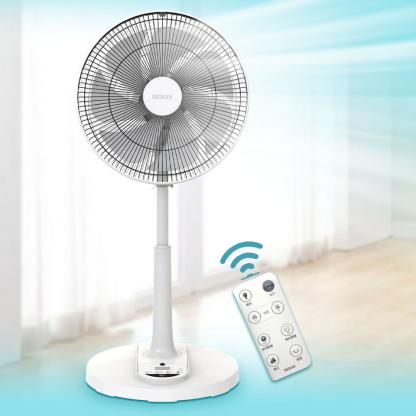fan: (61, 4, 259, 409)
